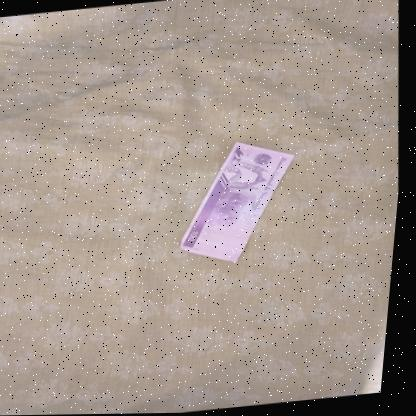one_hundred-back-vef: (173, 136, 309, 270)
